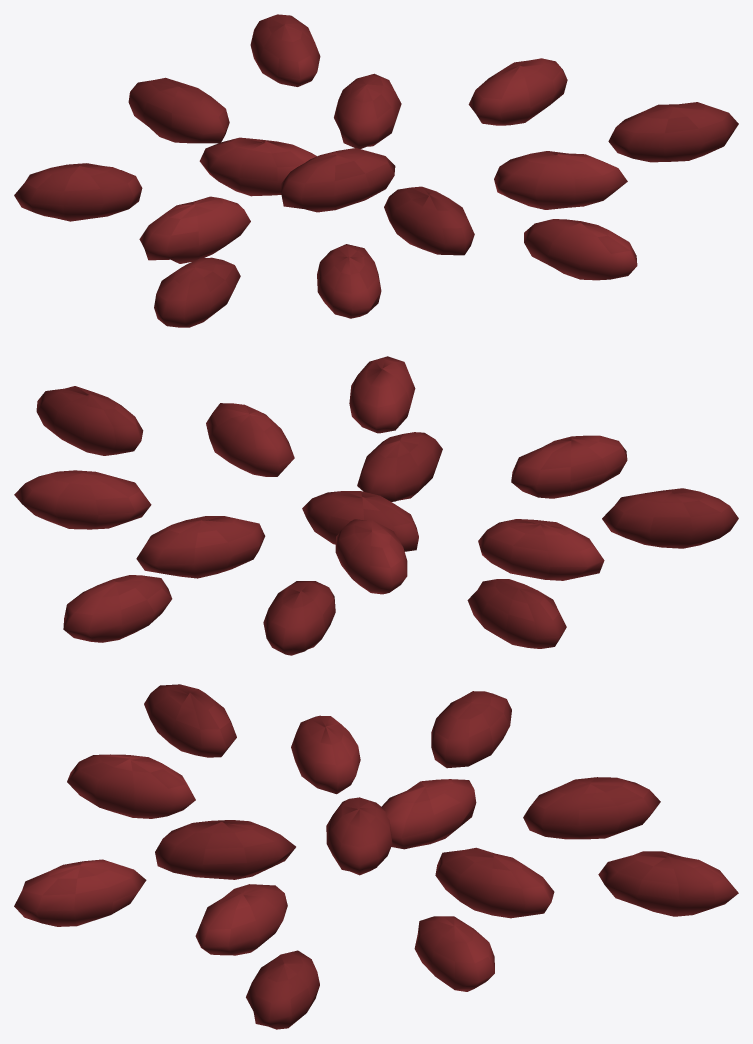
File: KidneyBeans.glb
The picture shows the model from 3 angles, top to bottom: view 1: azimuth 30°, elevation 25°; view 2: azimuth 150°, elevation 25°; view 3: azimuth 270°, elevation 25°; orthographic projection. The views are drawn at different scales.
Visible parts, largest first — view 1: KidneyBeans; view 2: KidneyBeans; view 3: KidneyBeans.
Boxes of the visible parts, x1,y1,x2,y2 form: KidneyBeans: (14, 14, 738, 327); KidneyBeans: (14, 356, 738, 655); KidneyBeans: (14, 684, 738, 1029).
Size of what is drawn, in the model's own units: 0.0654 by 0.0053 by 0.0615.
